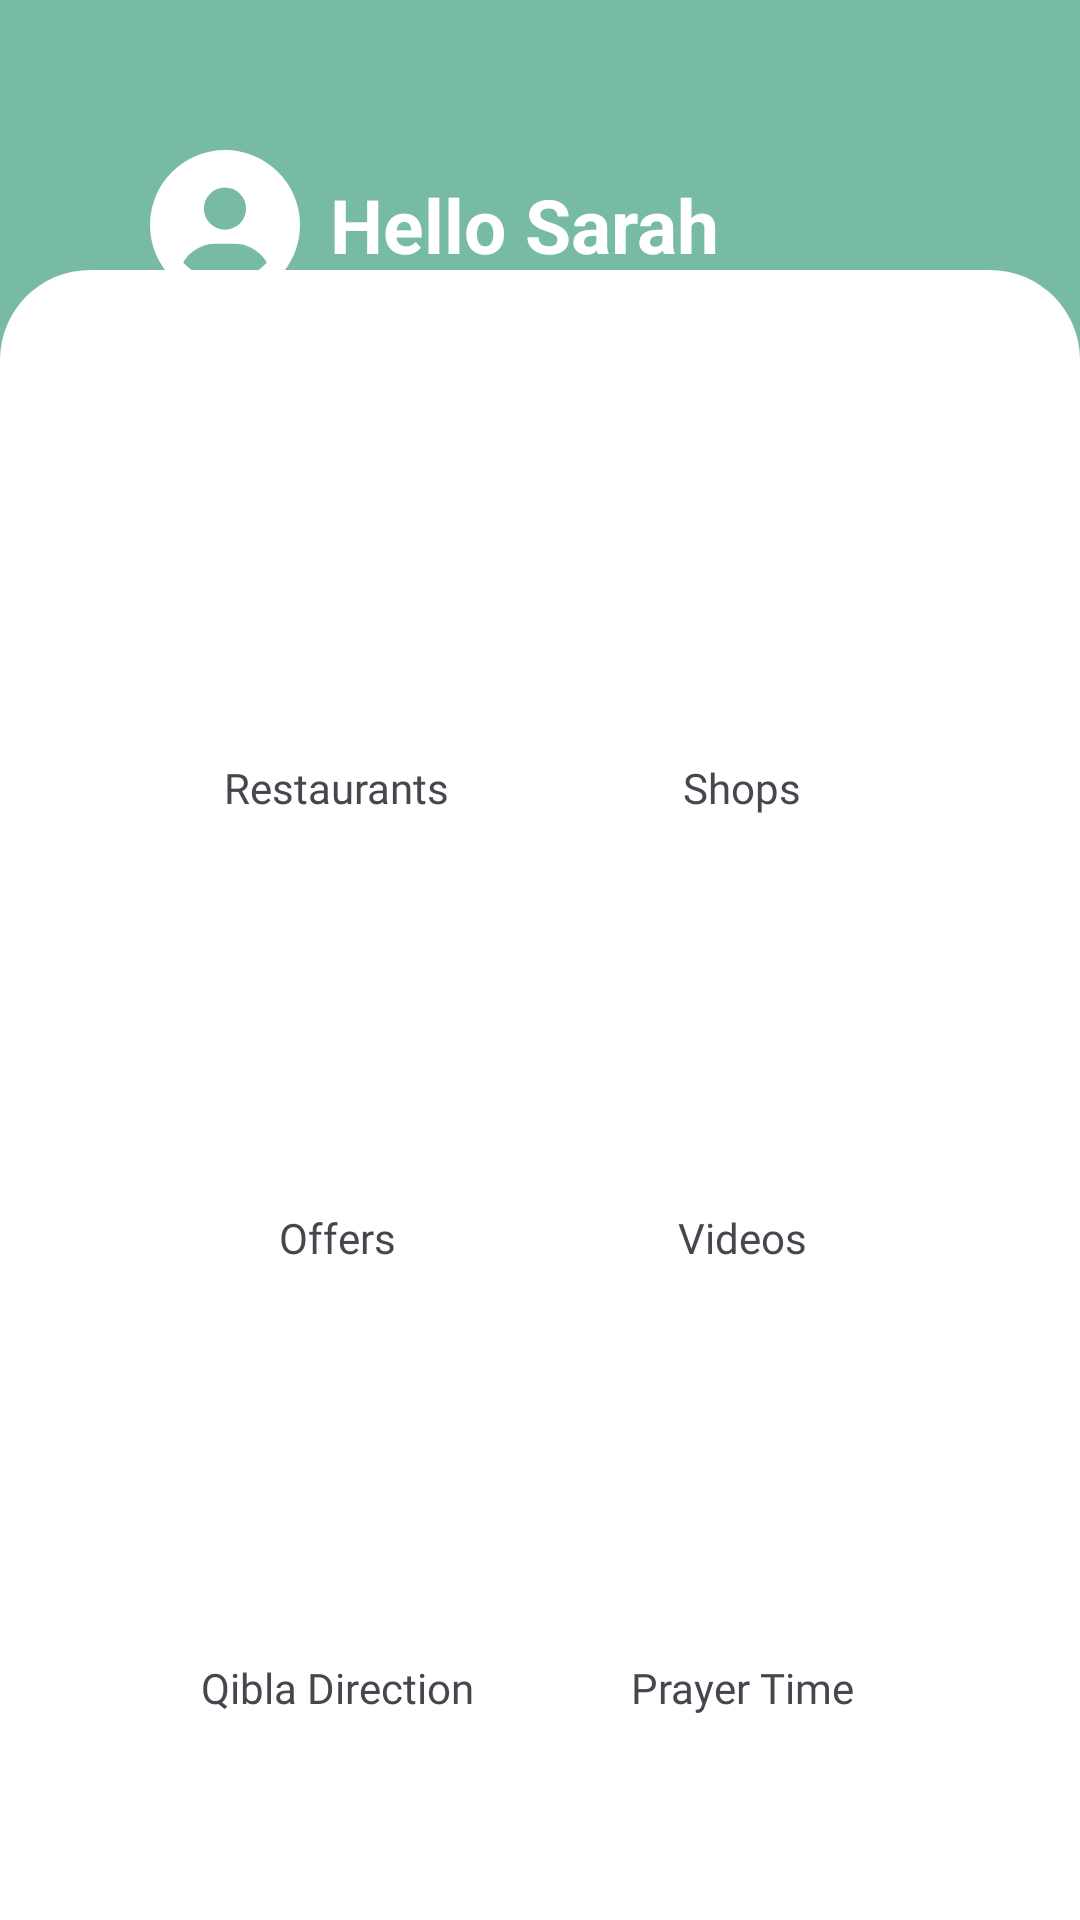

Screen size 1080×1920. Icon name, then its center in pixels as (x,y):
circle user: (225,225)
